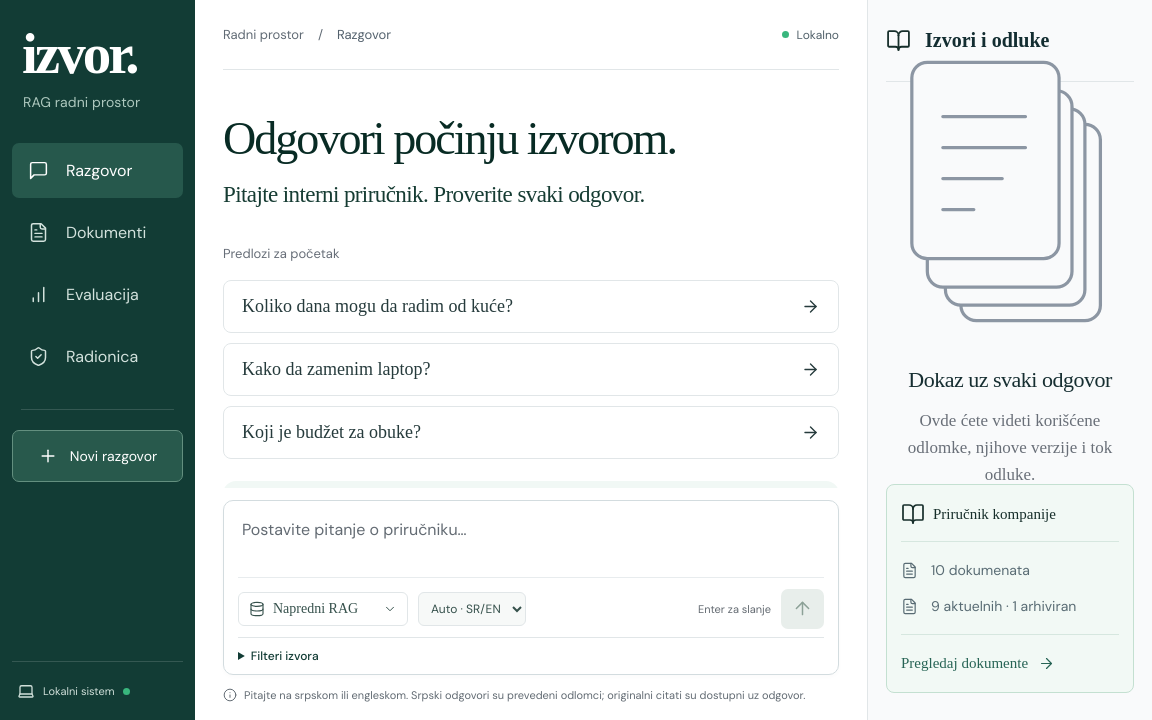
Test: real UI contracts › sends the exact cached English sample and displays its source
The image size is (1152, 720).
Step 1. Select "English" in the dropdown named "Jezik pitanja" → (472, 608), box [418,592,526,626]
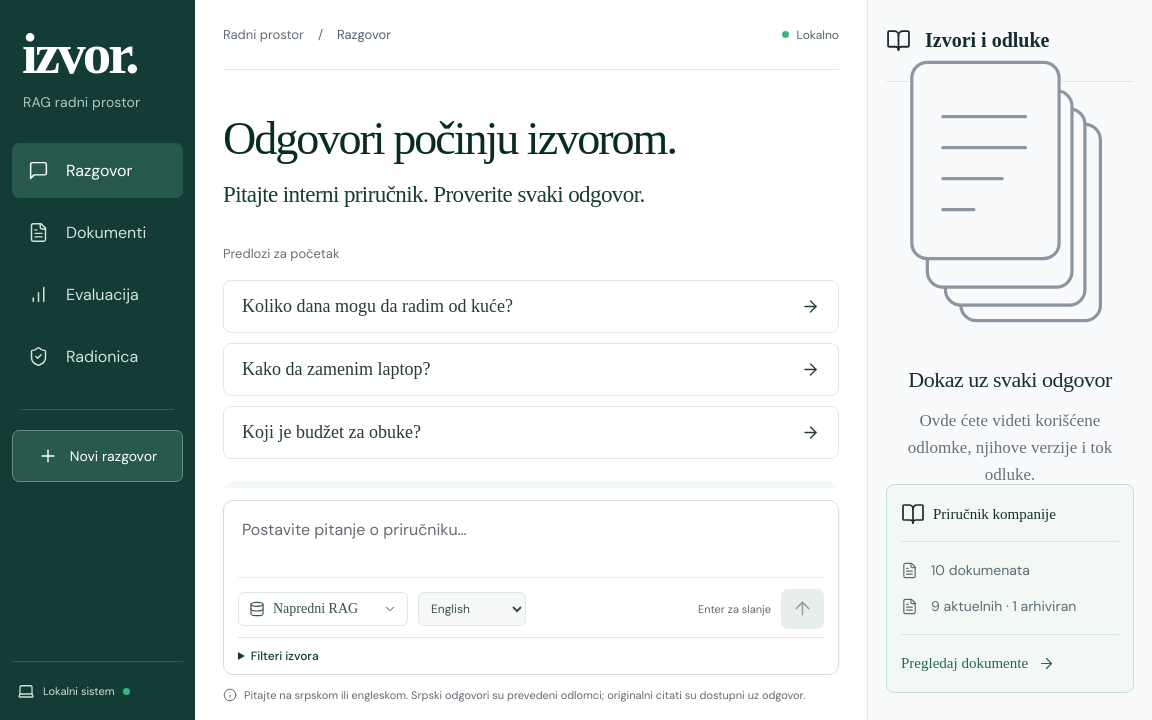
Step 2. Click the button "Koliko dana mogu da radim od kuće?" → (377, 306), box [223,280,839,333]
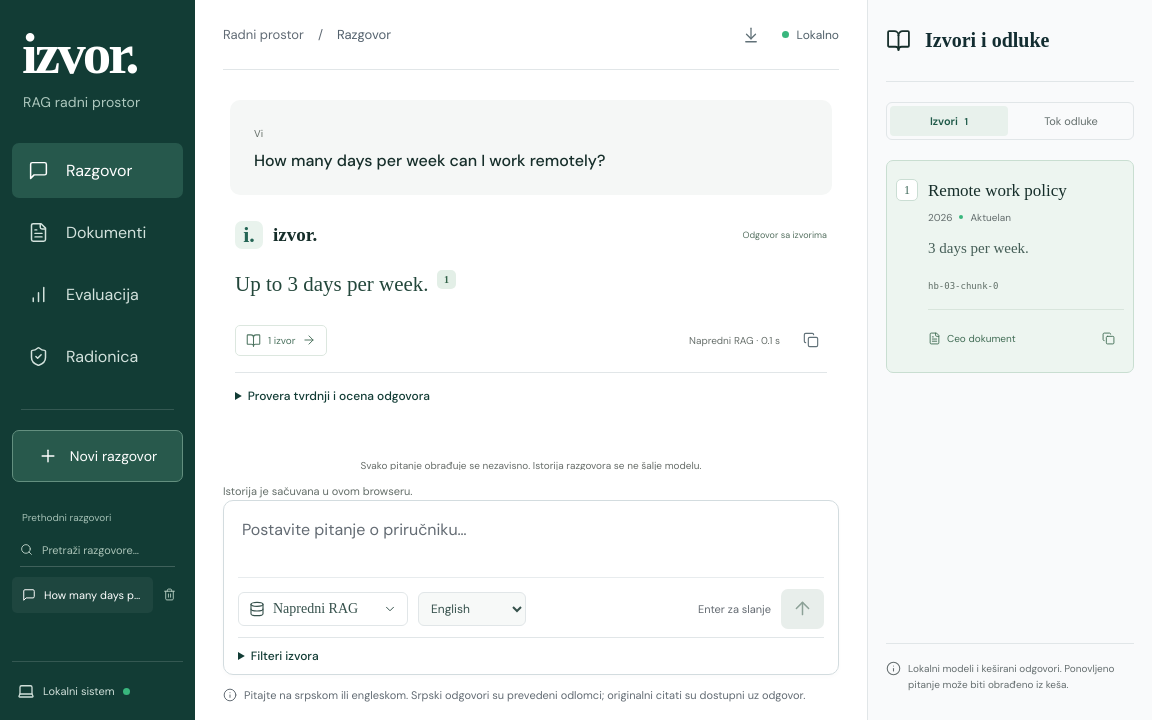
Result: the text "Up to 3 days per week." is shown at [235,272,434,296]
Result: the text "3 days per week." is shown at [928,240,1029,256]
